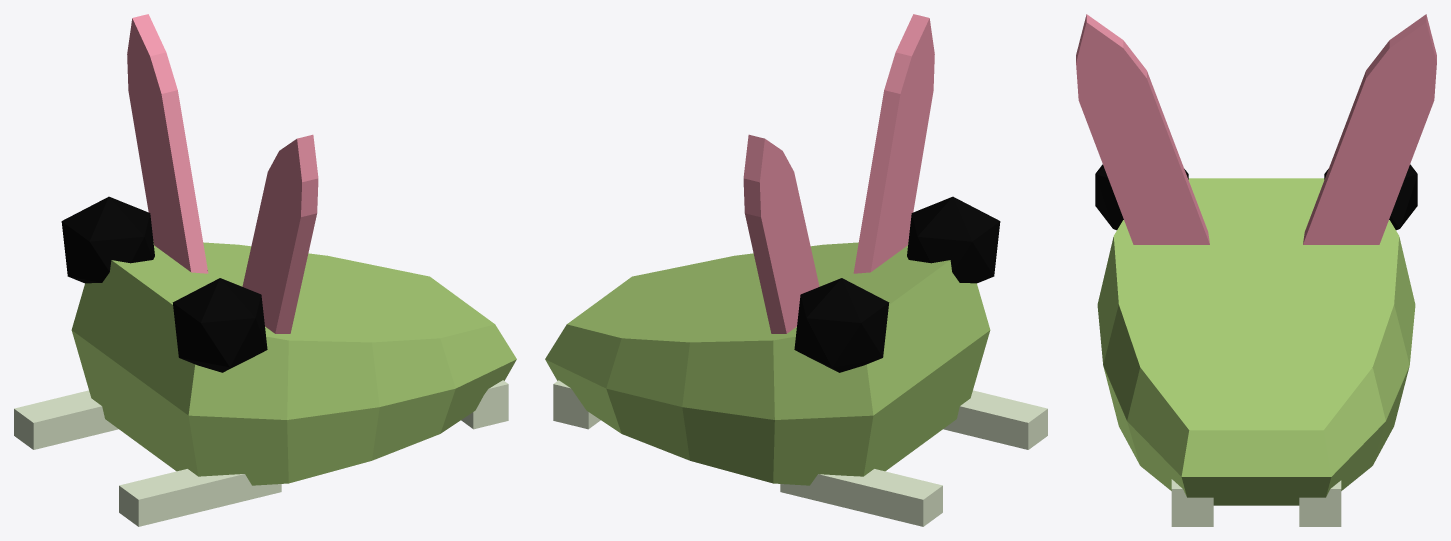
File: Frogbit.glb
3 views of the same model, side by side, from view 1: azimuth 30°, elevation 25°; view 2: azimuth 150°, elevation 25°; view 3: azimuth 270°, elevation 25° (orthographic). The views are drawn at different scales.
Visible parts, largest first — view 1: Cube.006; view 2: Cube.006; view 3: Cube.006.
Boxes of the visible parts, x1,y1,x2,y2 form: Cube.006: (14, 14, 516, 526); Cube.006: (545, 14, 1047, 526); Cube.006: (1076, 14, 1436, 526).
Bounding box in the file's own units: 1.27 × 1.12 × 0.9525.
1 material, 1 textured.
